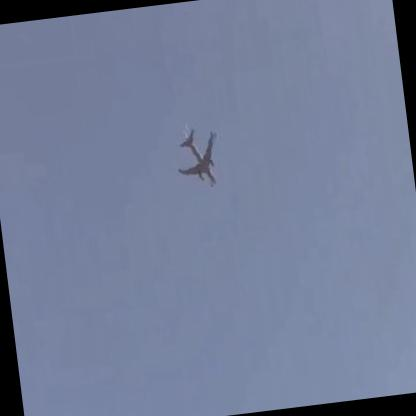plane: (173, 124, 225, 191)
